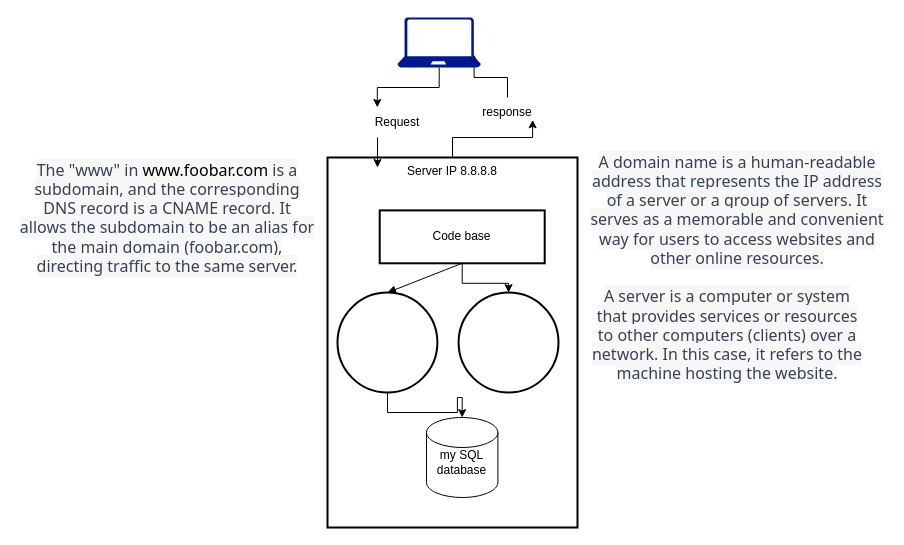
This 904x545 diagram has some shape labels left out. Each missing label, with the centre of its shape:
Application Server: point 387,342
Web Server: point 508,342
